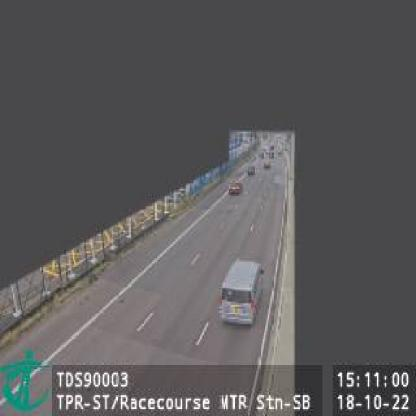Car: (215, 259, 265, 330), (227, 173, 245, 197), (246, 164, 257, 177)
